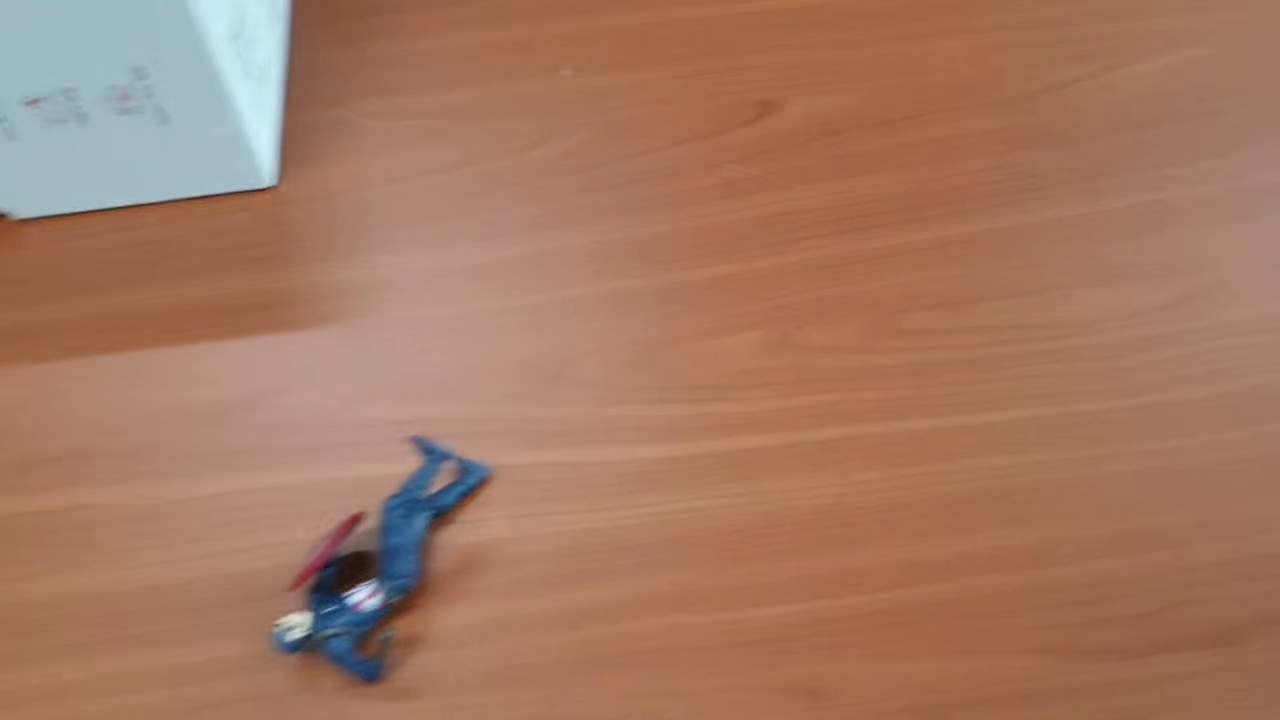people: (269, 431, 494, 687)
